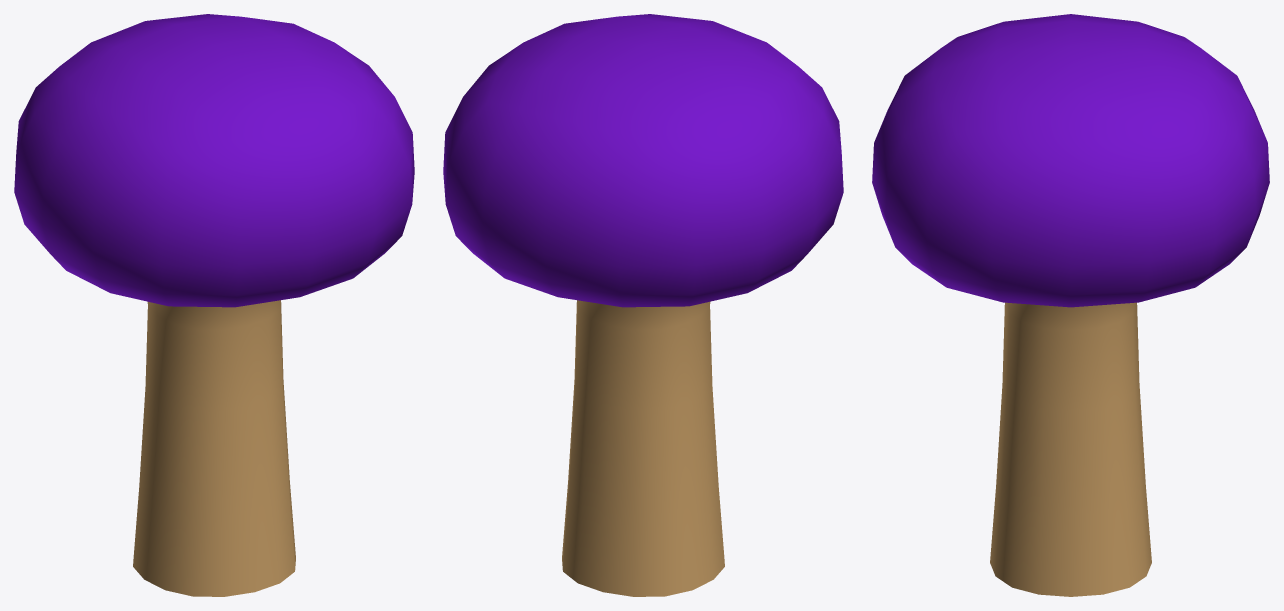
File: prop41.fbx
3 views of the same model, side by side, from view 1: azimuth 30°, elevation 25°; view 2: azimuth 150°, elevation 25°; view 3: azimuth 270°, elevation 25° (orthographic).
Parts seen in each view (by area): view 1: Cube.028; view 2: Cube.028; view 3: Cube.028.
Boxes of the visible parts, <box> form: Cube.028: <box>14,14,414,596</box>; Cube.028: <box>443,14,843,596</box>; Cube.028: <box>872,14,1269,596</box>.
Size of the model in its own units: 0.3826 by 0.3826 by 0.5481.
